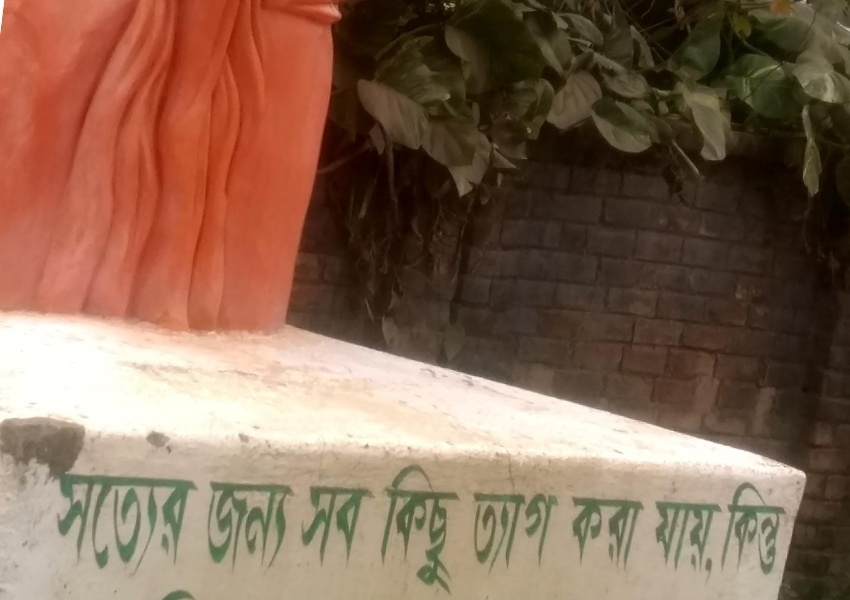text: (385, 462, 400, 596), (401, 462, 416, 596), (417, 462, 432, 596), (433, 462, 448, 596), (449, 462, 462, 596), (65, 474, 80, 578), (81, 474, 96, 578), (97, 474, 112, 578), (113, 474, 128, 578), (129, 474, 144, 578), (145, 474, 160, 578), (161, 474, 176, 578), (177, 474, 192, 578), (209, 478, 224, 579), (225, 478, 240, 579), (241, 478, 256, 579), (257, 478, 272, 579), (273, 478, 288, 579), (369, 481, 385, 575), (737, 481, 752, 579), (753, 481, 768, 579), (769, 481, 784, 579), (193, 474, 207, 578), (305, 481, 320, 575), (321, 481, 336, 575), (337, 481, 352, 575), (353, 481, 368, 575), (481, 490, 496, 575), (497, 490, 512, 575), (513, 490, 528, 575), (529, 490, 544, 575), (545, 490, 560, 575), (657, 500, 672, 585), (673, 500, 688, 585), (689, 500, 704, 585), (705, 500, 720, 585), (577, 494, 592, 573), (593, 494, 608, 573), (609, 494, 624, 573), (625, 494, 640, 573), (289, 478, 297, 579), (296, 481, 304, 575), (473, 490, 480, 575), (785, 481, 790, 579), (641, 494, 647, 573), (572, 494, 576, 573), (733, 481, 736, 579), (561, 490, 564, 575), (721, 500, 724, 585), (62, 474, 64, 578), (655, 500, 656, 585)
